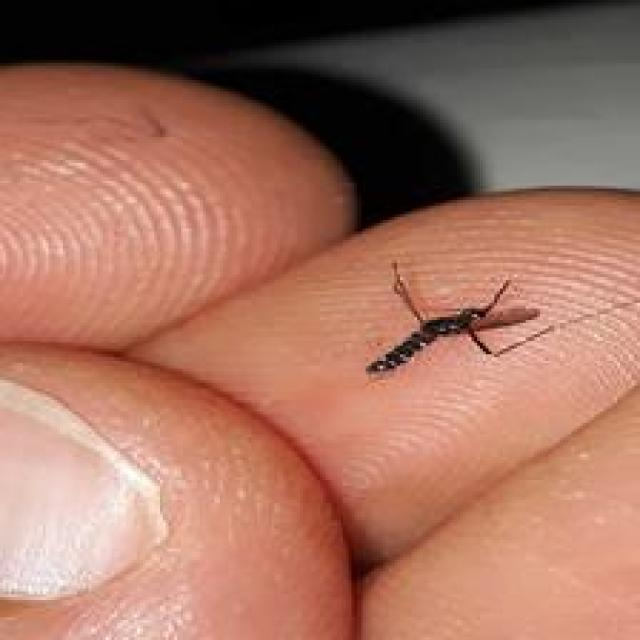Aedes albopictus: (364, 258, 553, 378)
